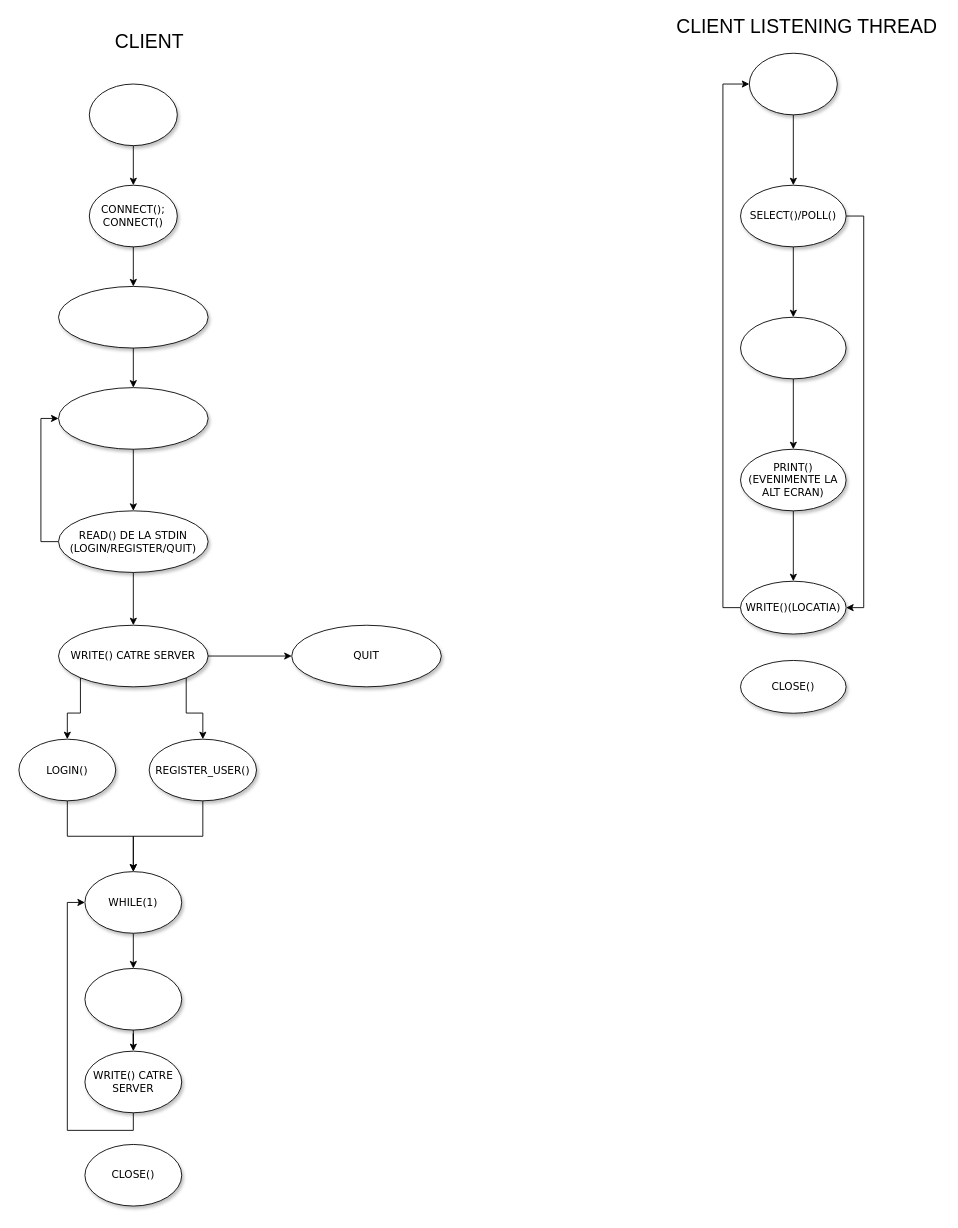
Image size: 958x1228. Some labels were removed from this diagram. The shapes that lost their labels are listed below. From the top down, each one's centre as x and y in pixels, then its label:
the point at 794,85: while(exit_flag != 1)
the point at 134,116: SOCKET(); SOCKET()
the point at 133,318: PTHREAD_CREATE()
the point at 793,349: READ() DE LA SERVER
the point at 133,419: WHILE()
the point at 134,1000: READ() DE LA STDIN
